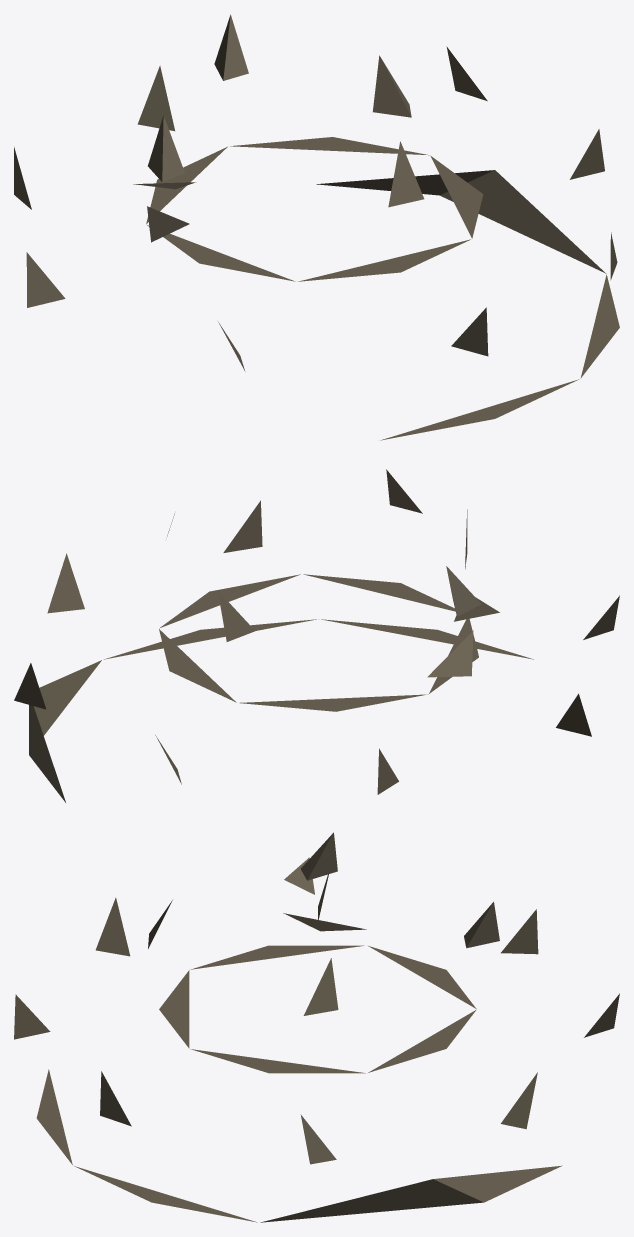
File: chandelier-ring.lod2.glb
3 renders of one model, top to bottom at view 1: azimuth 30°, elevation 25°; view 2: azimuth 150°, elevation 25°; view 3: azimuth 270°, elevation 25°, orthographic. The views are drawn at different scales.
Parts seen in each view (by area): view 1: group42_fire_0; view 2: group42_fire_0; view 3: group42_fire_0.
Part boxes in pixels (<box>): group42_fire_0: <box>14,14,619,440</box>; group42_fire_0: <box>14,469,619,802</box>; group42_fire_0: <box>14,832,619,1222</box>.
Bounding box in the file's own units: 1.7 × 0.6491 × 1.69.
